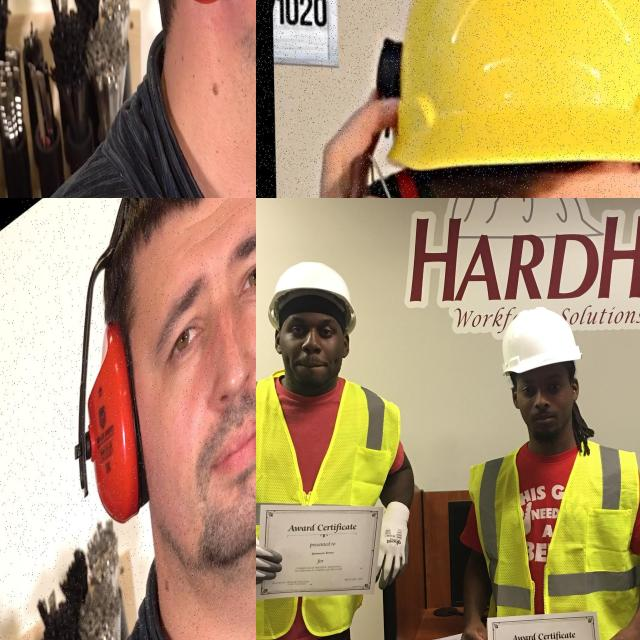Ear-protection: (67, 260, 156, 531), (349, 140, 473, 198)
No_Glasses: (286, 317, 338, 346), (519, 380, 568, 401)
face_nomask: (279, 314, 346, 391), (506, 370, 583, 436)
hand_glove: (360, 499, 415, 589), (256, 525, 280, 591)
hand_noglove: (592, 610, 640, 640), (458, 609, 500, 640)
head_helmet: (363, 0, 640, 178), (261, 258, 374, 327), (492, 310, 588, 362)
person: (56, 198, 256, 640), (308, 0, 640, 198), (449, 310, 640, 640), (256, 247, 389, 640), (107, 0, 256, 198)
vest: (471, 442, 640, 640), (256, 372, 375, 618)
